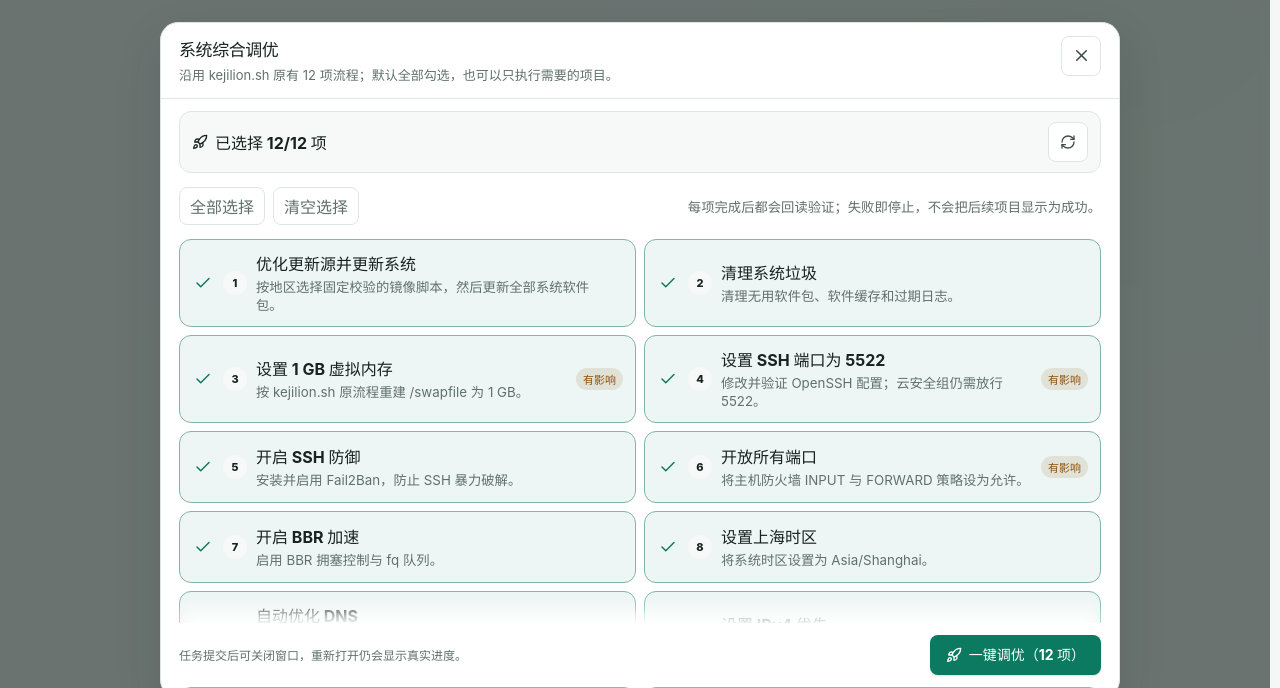
Test: SystemTuningDialog › allows a single item to be unchecked and restores progress from a running task
Click the button with class "tuning-item" that starts with "优化更新源并更新系统" at (408, 283), box 179,239 -> 636,327
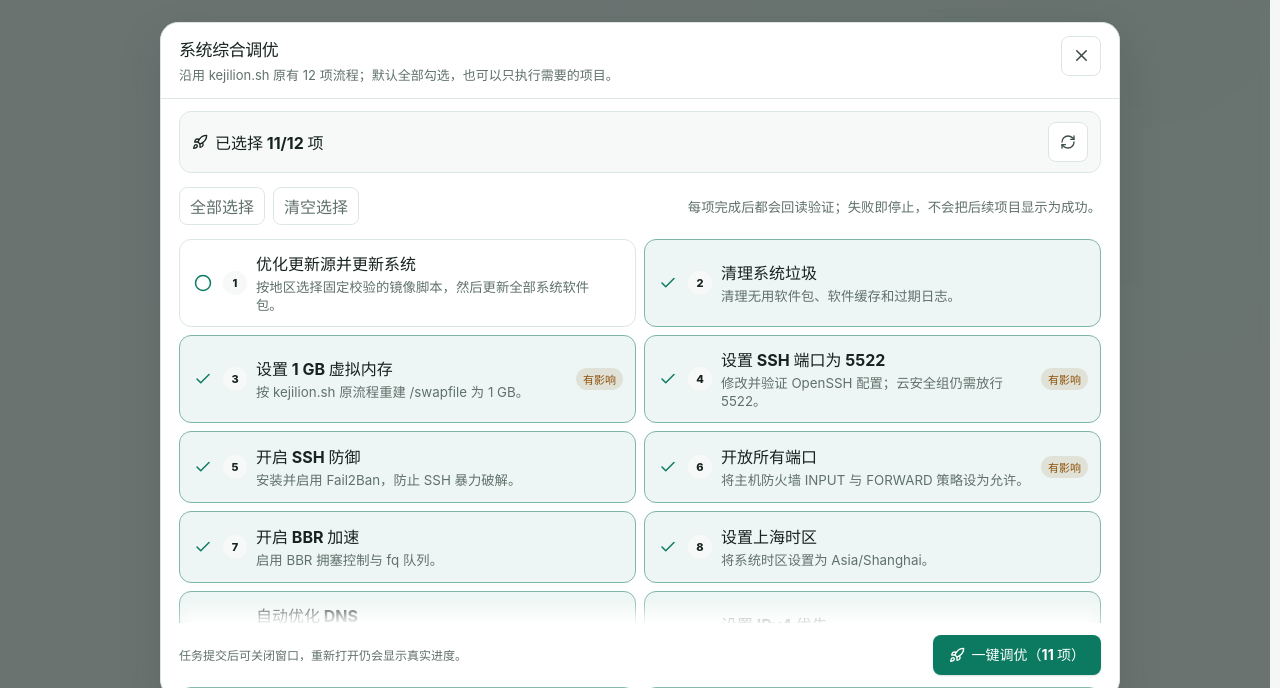
Expected: the text "已选择 11/12 项" is shown, 192,130 -> 324,154
Click the button titled "刷新调优状态" at (1068, 142), box 1048,122 -> 1088,162
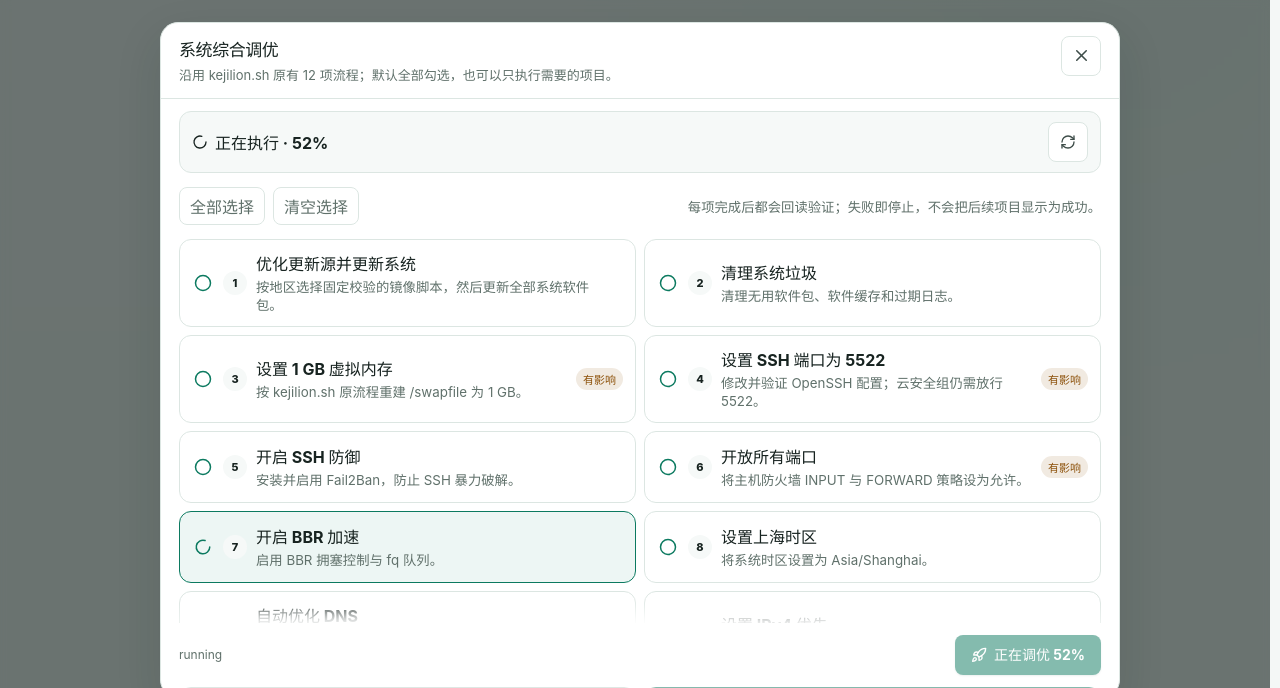
Expected: the button with class "is-running" shows "开启 BBR 加速", 179,511 -> 636,583
Expected: the text "正在执行 · 52%" is shown, 192,130 -> 328,154
